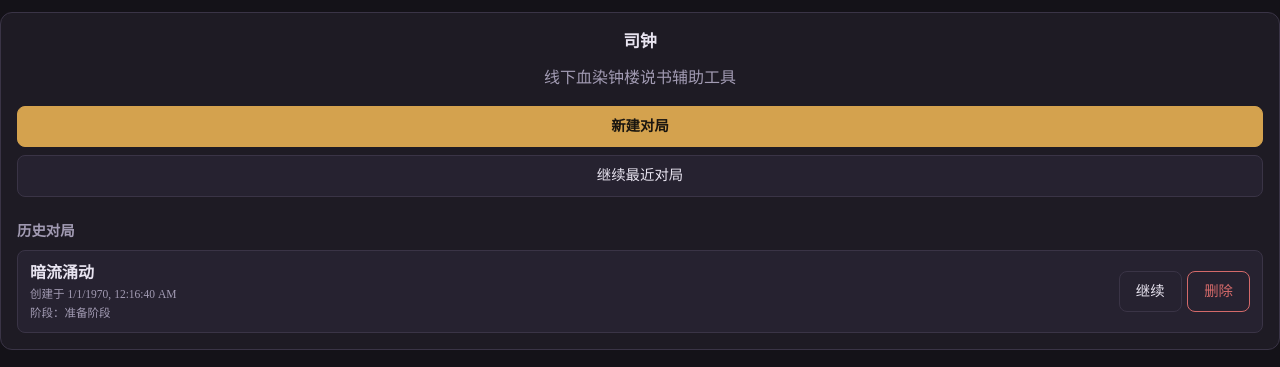
Scenario: Home（首页） › 删除历史对局需要确认
This screenshot has width=1280, height=367.
Expected: the text "暗流涌动" is shown, top-left (30, 264), bottom-right (94, 281)
Click the button "删除". click: (1219, 292)
box: top-left (1187, 271), bottom-right (1250, 312)
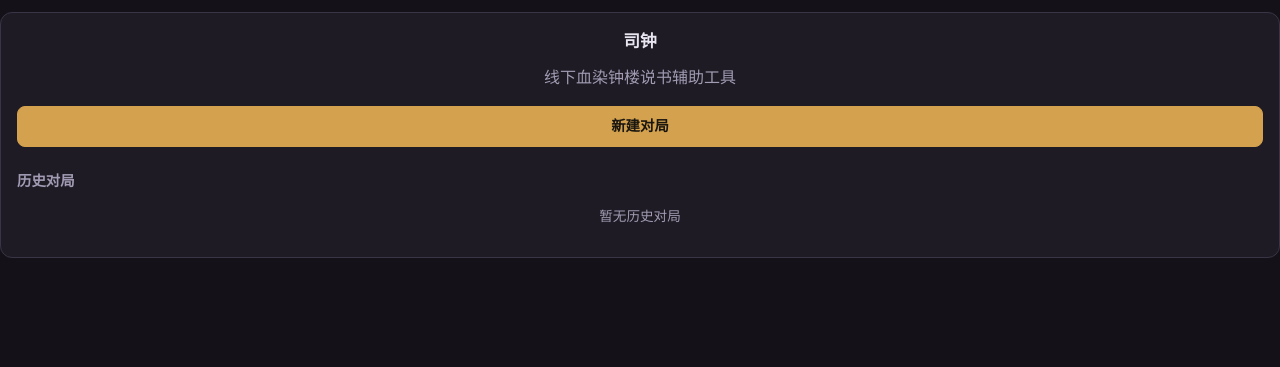
Result: the text "暗流涌动" is gone
